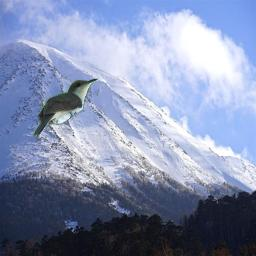Cuckoo: (32, 78, 99, 138)
